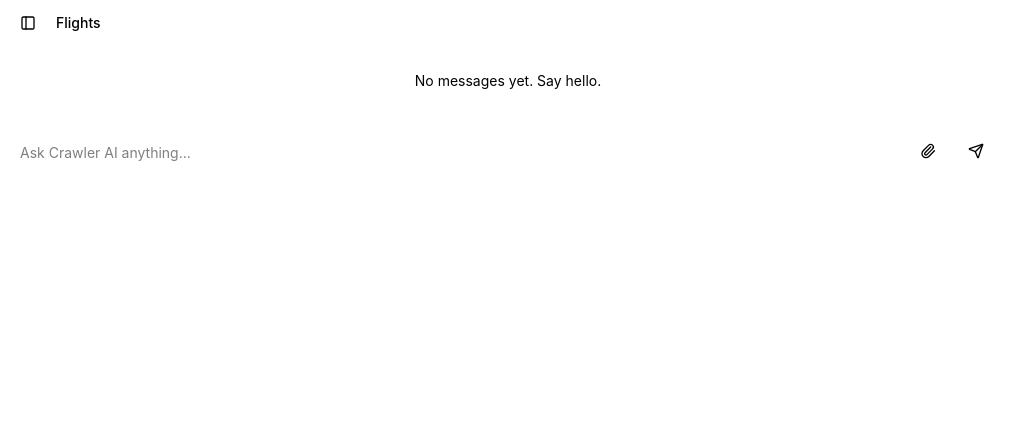
Test: Screenshots in the chat › never puts a remote URL in an image
The width and height of the screenshot is (1015, 435).
Type "find flights from JFK to LAX" into the text box named "Message". click: (460, 153)
box: x1=20 y1=135 x2=900 y2=171
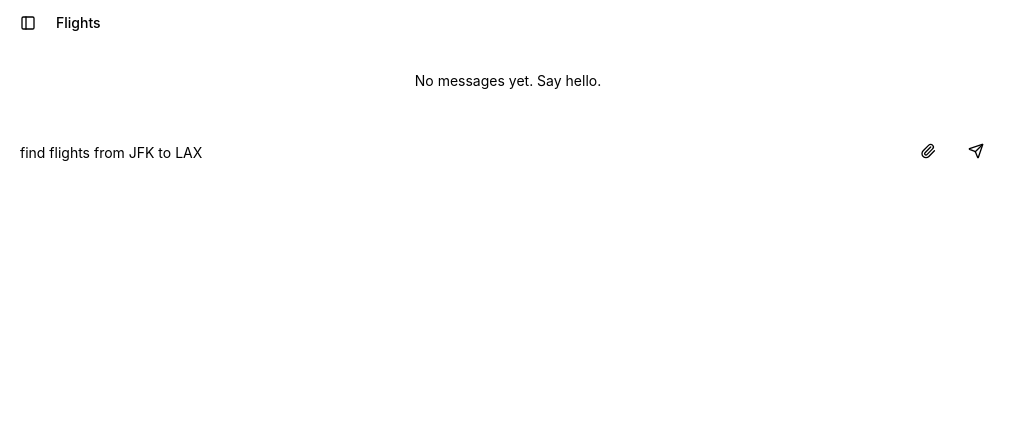
Press Enter in the text box named "Message", box x1=20 y1=135 x2=900 y2=171
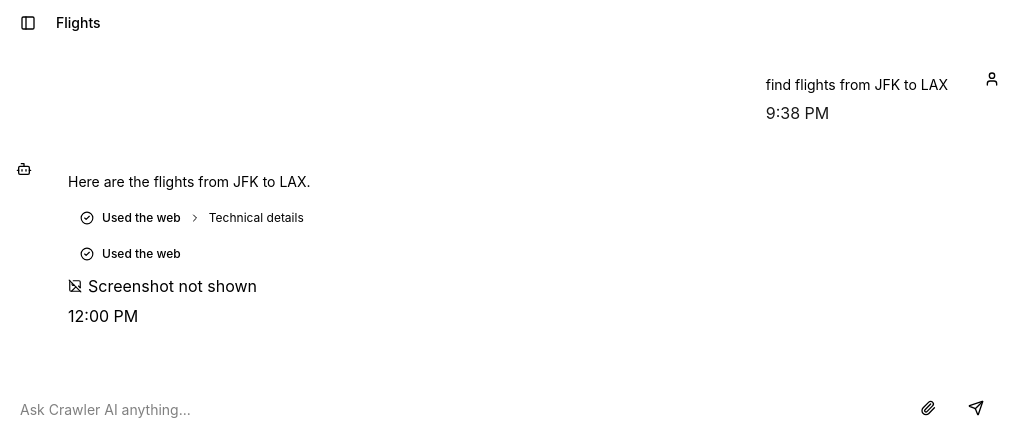
Check: the text "Screenshot not shown" is shown, box x1=68 y1=276 x2=257 y2=296
